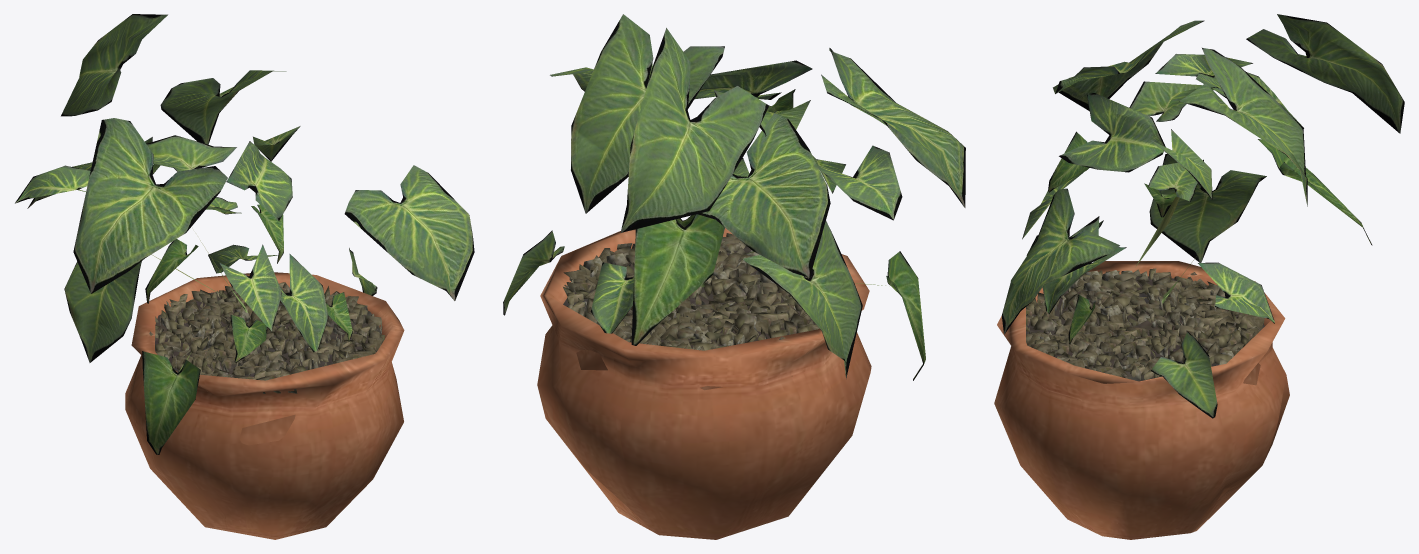
File: potted_plant_02.gltf
The picture shows the model from 3 angles, left to right: view 1: azimuth 30°, elevation 25°; view 2: azimuth 150°, elevation 25°; view 3: azimuth 270°, elevation 25°; orthographic projection. The views are drawn at different scales.
Parts seen in each view (by area): view 1: potted_plant_02_leaves, potted_plant_02_pot, potted_plant_02_dirt; view 2: potted_plant_02_leaves, potted_plant_02_pot, potted_plant_02_dirt; view 3: potted_plant_02_leaves, potted_plant_02_pot, potted_plant_02_dirt.
Boxes of the visible parts, left/top/right/bottom form: potted_plant_02_leaves: left=15, top=14, right=474, bottom=454; potted_plant_02_pot: left=125, top=272, right=404, bottom=539; potted_plant_02_dirt: left=149, top=282, right=384, bottom=393; potted_plant_02_leaves: left=503, top=14, right=965, bottom=380; potted_plant_02_pot: left=537, top=228, right=871, bottom=539; potted_plant_02_dirt: left=563, top=233, right=819, bottom=350; potted_plant_02_leaves: left=1001, top=14, right=1404, bottom=418; potted_plant_02_pot: left=994, top=261, right=1289, bottom=539; potted_plant_02_dirt: left=1026, top=268, right=1264, bottom=381.
Bounding box in the file's own units: 0.7009 × 0.8397 × 0.6553.
2 materials, 2 textured.
